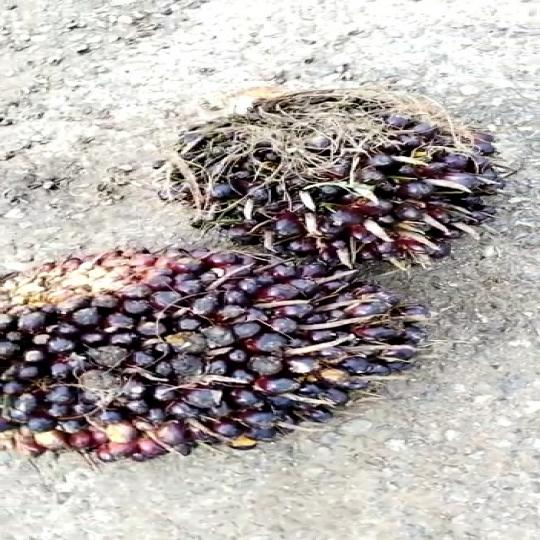mentah: (0, 234, 408, 483), (162, 74, 511, 282)
